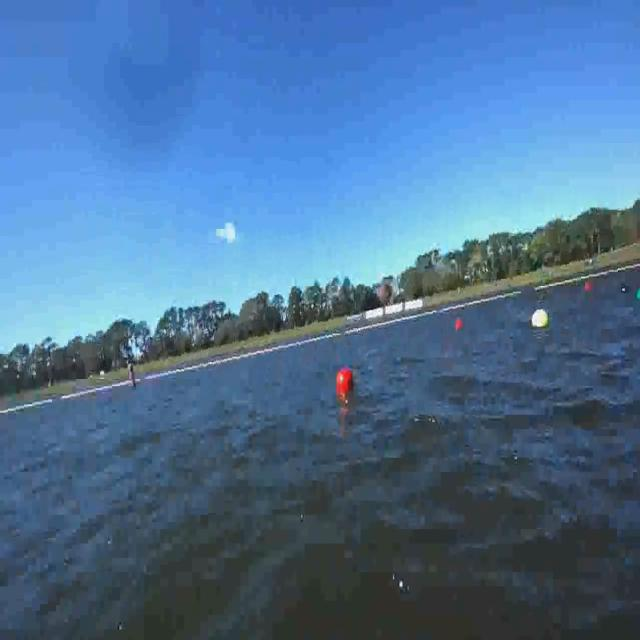green-buoy: (635, 288, 640, 300)
red-buoy: (339, 367, 356, 392), (456, 318, 463, 330), (586, 282, 594, 292)
yellow-buoy: (530, 309, 549, 329)
